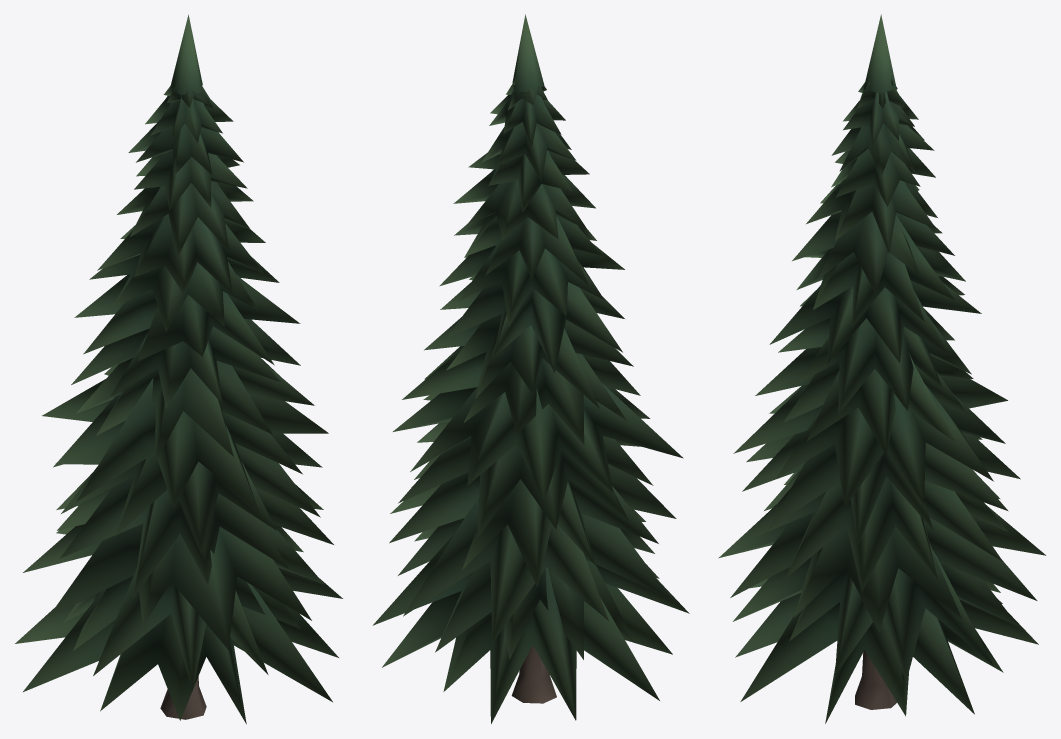
File: tree_pine.fbbe3c925b.glb
3 renders of one model, left to right at view 1: azimuth 30°, elevation 25°; view 2: azimuth 150°, elevation 25°; view 3: azimuth 270°, elevation 25°, orthographic.
Visible parts, largest first — view 1: tree_pine_LOD0; view 2: tree_pine_LOD0; view 3: tree_pine_LOD0.
Boxes of the visible parts, bbox=[...] form: tree_pine_LOD0: bbox=[15, 14, 342, 724]; tree_pine_LOD0: bbox=[373, 14, 689, 723]; tree_pine_LOD0: bbox=[718, 14, 1045, 723].
Size of what is drawn, in the model's own units: 20.62 by 48.1 by 20.77.
